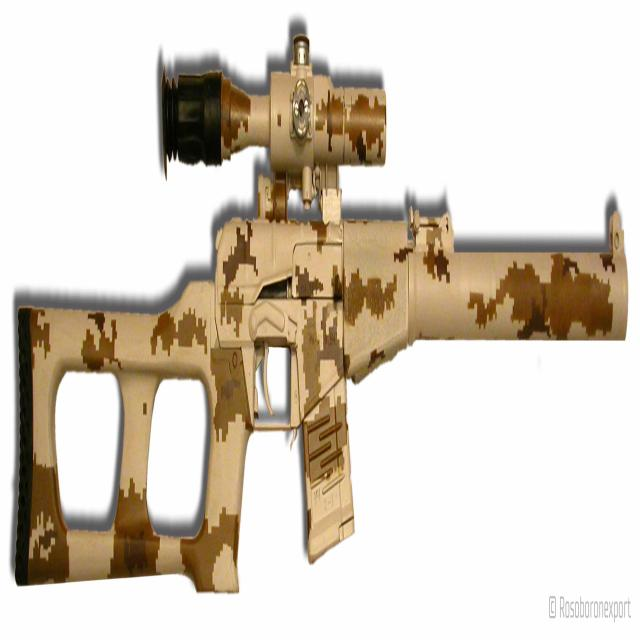Rifle: (14, 16, 629, 594)
